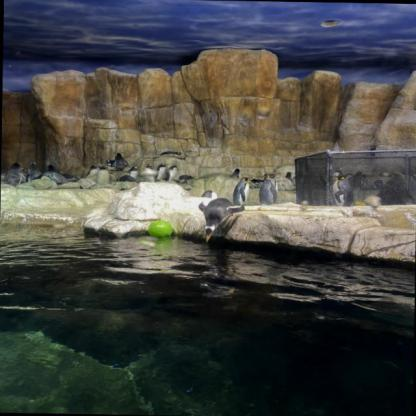penguin: (193, 199, 241, 242), (329, 174, 361, 206), (258, 172, 283, 206), (233, 175, 250, 204), (96, 164, 115, 188), (151, 162, 167, 186), (165, 163, 181, 183), (26, 160, 42, 180), (10, 163, 24, 185), (110, 152, 126, 171), (348, 169, 364, 187), (226, 164, 243, 180), (88, 164, 101, 179), (128, 166, 141, 180), (362, 173, 371, 189), (47, 163, 56, 178), (285, 169, 295, 181)
